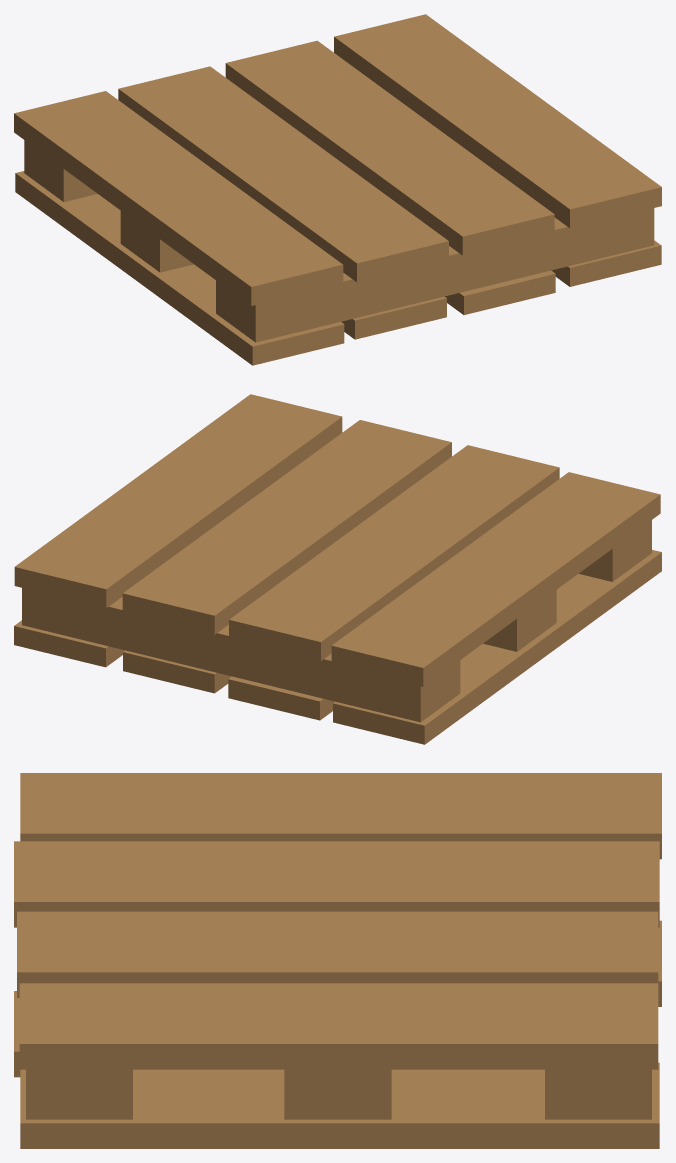
File: SRA_Pallet_01.glb
3 renders of one model, top to bottom at view 1: azimuth 30°, elevation 25°; view 2: azimuth 150°, elevation 25°; view 3: azimuth 270°, elevation 25°, orthographic. The views are drawn at different scales.
Visible parts, largest first — view 1: Pallet_01; view 2: Pallet_01; view 3: Pallet_01.
Boxes of the visible parts, x1,y1,x2,y2 form: Pallet_01: [14, 14, 661, 365]; Pallet_01: [14, 394, 661, 744]; Pallet_01: [14, 773, 661, 1148].
Size of the model in its own units: 0.9506 by 0.1721 by 0.9613.
Materials: 1 (1 with a texture image).
